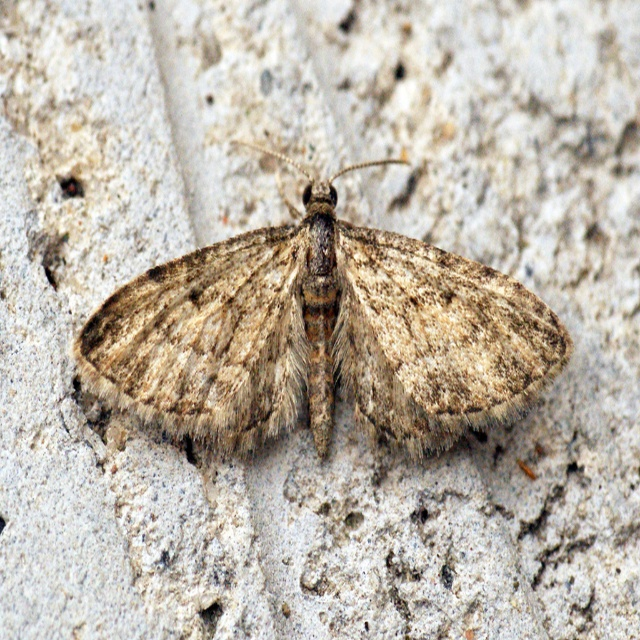Butterfly: (85, 113, 551, 505)
